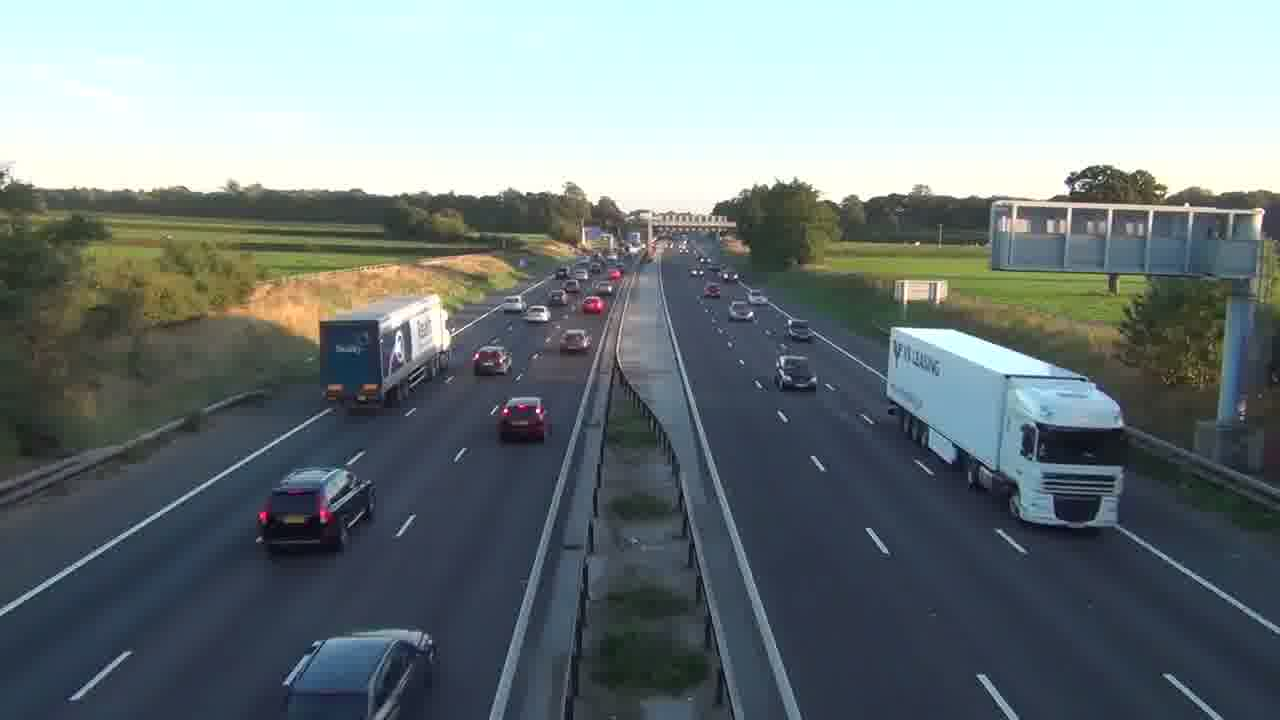car: (280, 626, 438, 718), (494, 395, 549, 442), (471, 342, 512, 376), (559, 327, 592, 354), (580, 295, 606, 316), (524, 304, 550, 323), (702, 283, 721, 297)
truck: (885, 325, 1126, 531), (320, 295, 453, 408), (255, 461, 376, 551)
